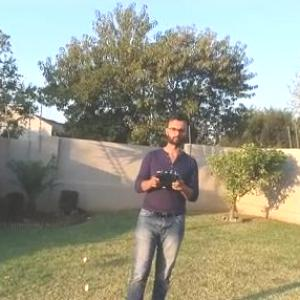follow: (121, 107, 203, 299)
